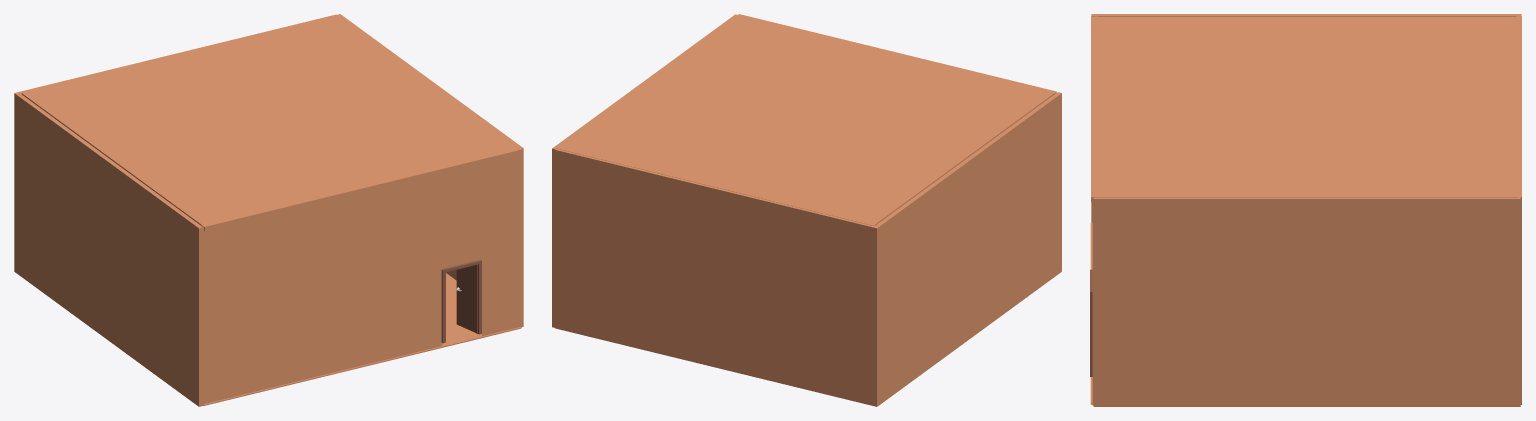
Rendered from room3.glb.
The picture shows the model from 3 angles, left to right: view 1: azimuth 30°, elevation 25°; view 2: azimuth 150°, elevation 25°; view 3: azimuth 270°, elevation 25°; orthographic projection. The views are drawn at different scales.
Parts seen in each view (by area): view 1: Roof, Wall, Wall1, Floor, Door, Wall4, DoorFrame, Wall2; view 2: Wall2, Roof, Wall1, Wall4; view 3: Wall4, Roof, Wall1, Wall2, Wall.
Boxes of the visible parts, x1,y1,x2,y2 form: Roof: (21,15,522,231); Wall: (201,154,521,404); Wall1: (14,92,203,406); Floor: (203,273,521,405); Door: (456,264,478,334); Wall4: (336,14,523,326); DoorFrame: (441,259,481,343); Wall2: (19,14,336,94); Wall2: (555,149,874,405); Roof: (556,14,1056,225); Wall1: (873,92,1061,406); Wall4: (552,14,736,327); Wall4: (1093,196,1520,406); Roof: (1091,17,1518,202); Wall1: (1091,14,1521,222); Wall2: (1516,16,1521,404); Wall: (1092,16,1097,405).
Bounding box in the file's own units: 5.75 × 3.02 × 5.67.
